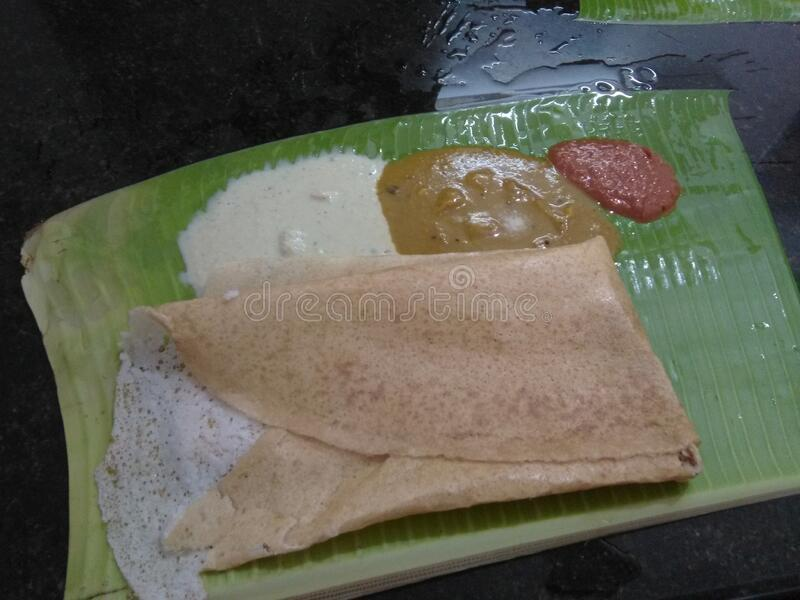dosa: (88, 233, 713, 600)
